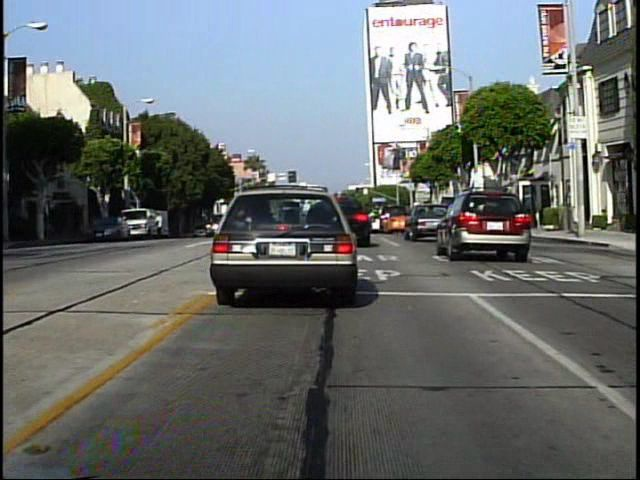person: (155, 208, 167, 242)
